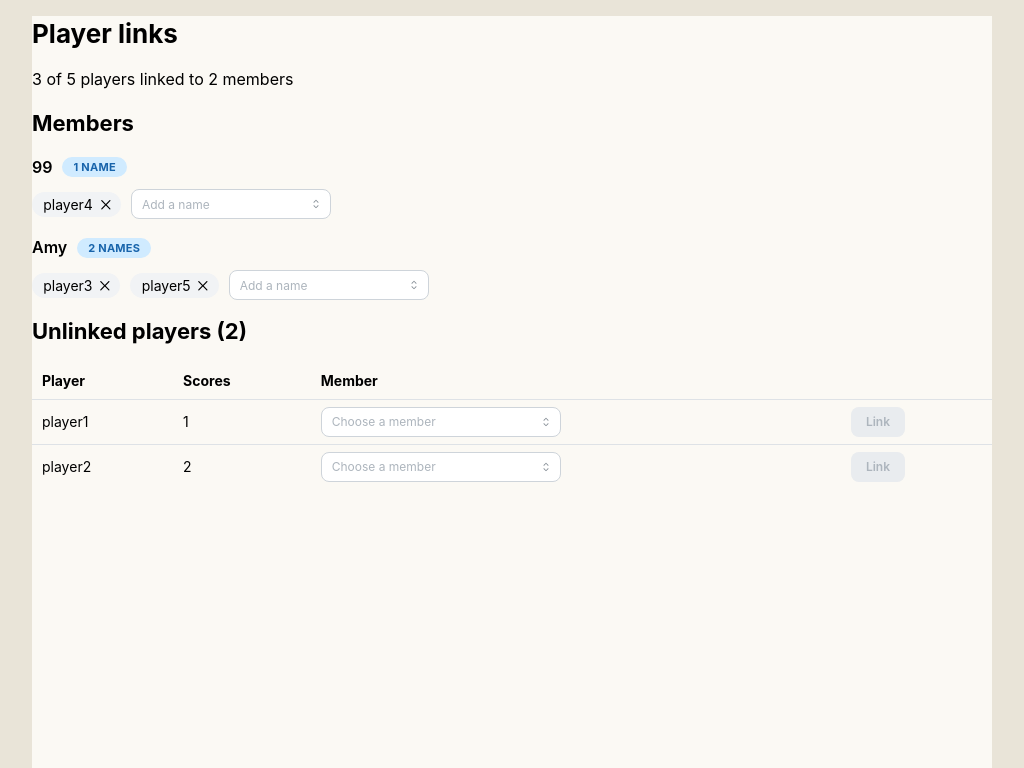
Test: PlayerLinksPanel › filters members by search
This screenshot has width=1024, height=768.
Type "Bo" into the dropdown named "Member for player2" at coordinates (441, 467), box x1=321 y1=452 x2=561 y2=482
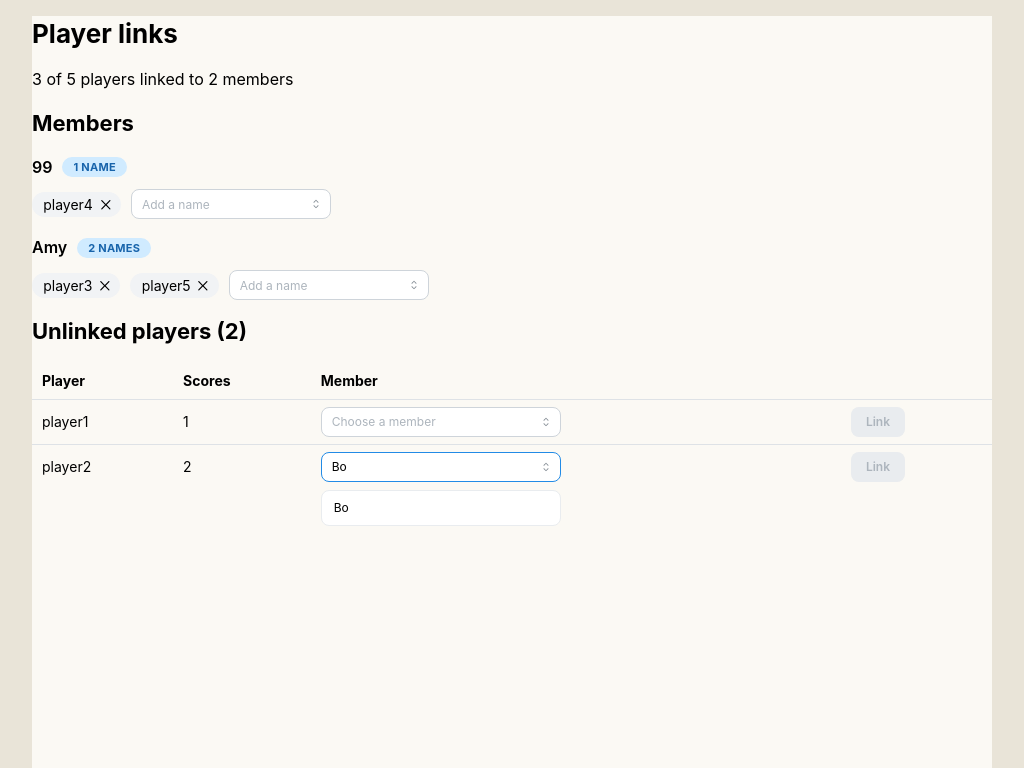
Expected: the text "Bo" is shown, x1=334 y1=499 x2=349 y2=517
